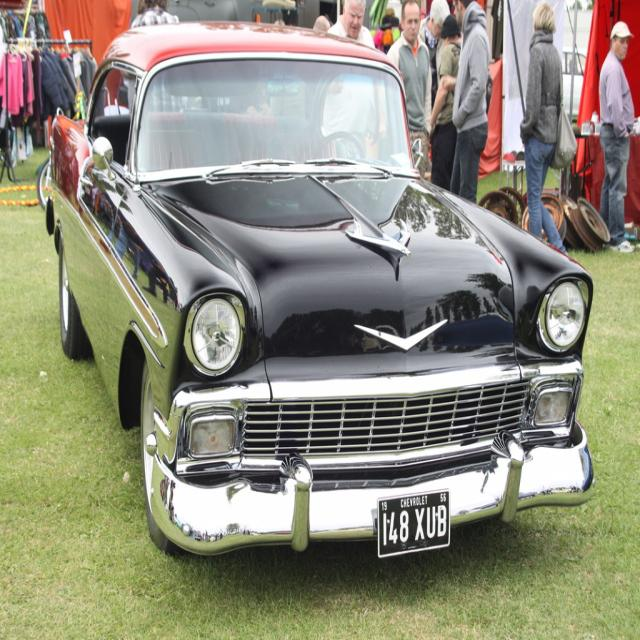car: (44, 14, 597, 559)
